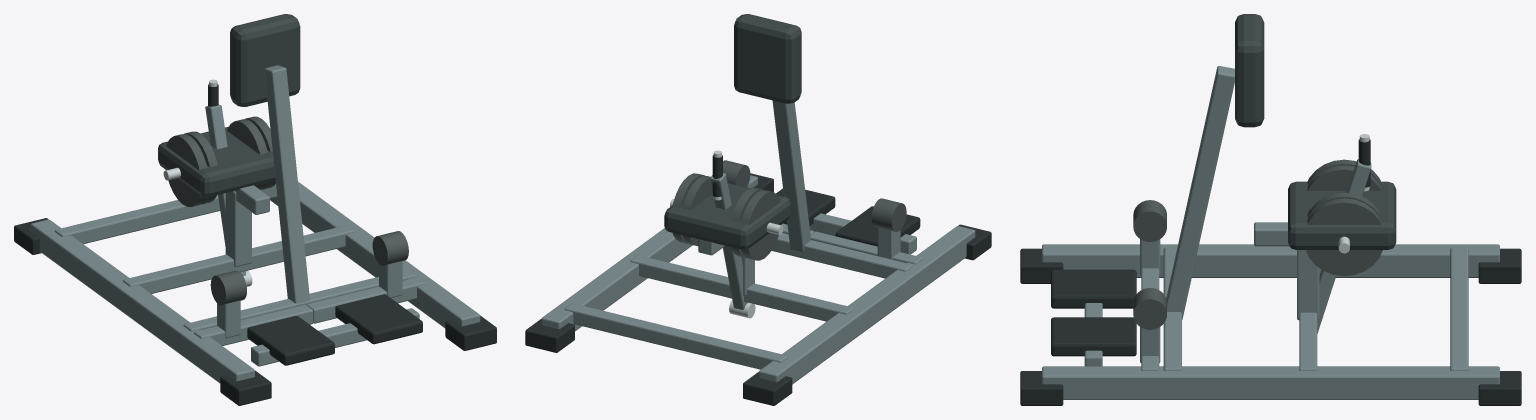
File: row-machine.v1.glb
3 renders of one model, left to right at view 1: azimuth 30°, elevation 25°; view 2: azimuth 150°, elevation 25°; view 3: azimuth 270°, elevation 25°, orthographic. The views are drawn at different scales.
Parts seen in each view (by area): view 1: Base crossmember, Chest pad, Floor shoe, Bearing, Load plate.002, Load plate, Lever arm; view 2: Base crossmember, Chest pad, Floor shoe, Load plate.002, Bearing, Lever arm, Load plate; view 3: Base crossmember, Floor shoe, Chest pad, Load plate, Bearing, Load plate.002, Lever arm.
Part boxes in pixels (x1,y1,x2,y2): Base crossmember: (30,65,480,383); Chest pad: (158,14,300,197); Floor shoe: (14,218,496,405); Bearing: (210,231,408,305); Load plate.002: (166,131,217,206); Load plate: (227,116,275,189); Lever arm: (205,104,246,276); Base crossmember: (541,100,975,384); Chest pad: (664,14,801,249); Floor shoe: (525,173,991,405); Load plate.002: (731,187,780,260); Bearing: (723,160,906,231); Lever arm: (710,173,747,309); Load plate: (672,173,712,246); Base crossmember: (1042,66,1499,399); Floor shoe: (1020,248,1521,405); Chest pad: (1235,14,1396,249); Load plate: (1306,192,1382,276); Bearing: (1133,200,1166,329); Load plate.002: (1307,159,1380,190); Lever arm: (1317,159,1371,333).
Bounding box in the file's own units: 1.47 × 1.55 × 2.22.
